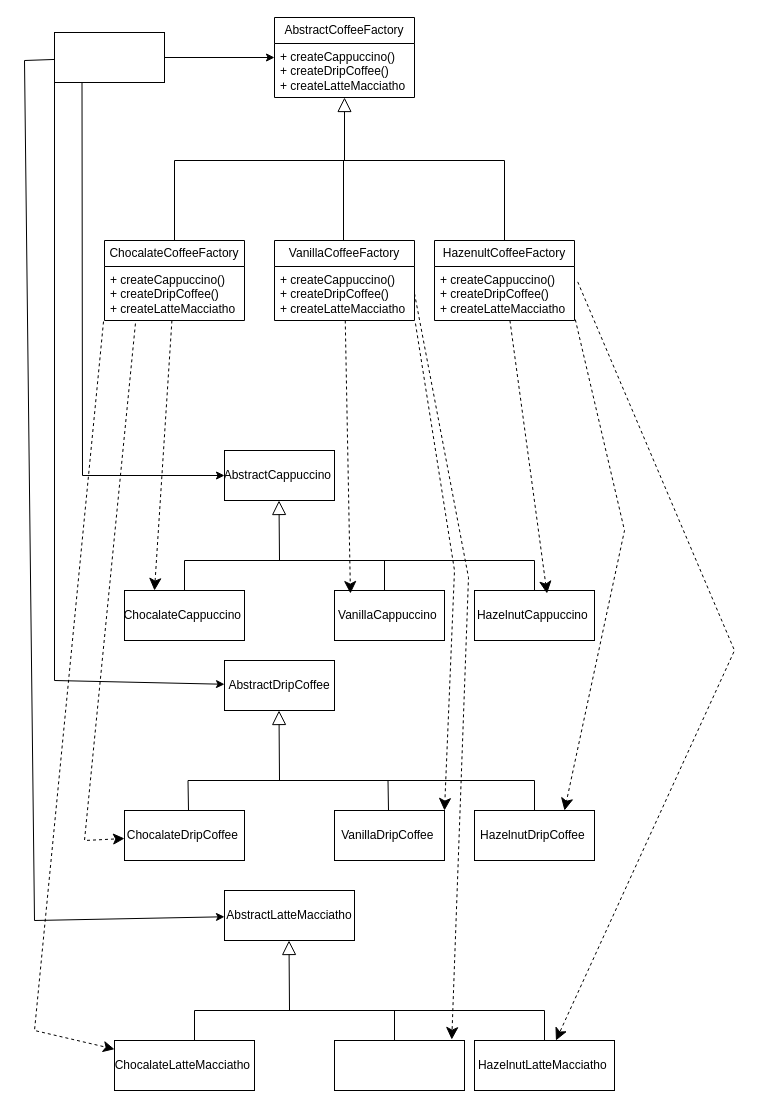
This 764x1108 diagram has some shape labels left out. The centre of each missing label's shape, as x and y in pixels:
"Client" goes at point 109,57.
"VanillaLatteMacciatho" goes at point 399,1065.
